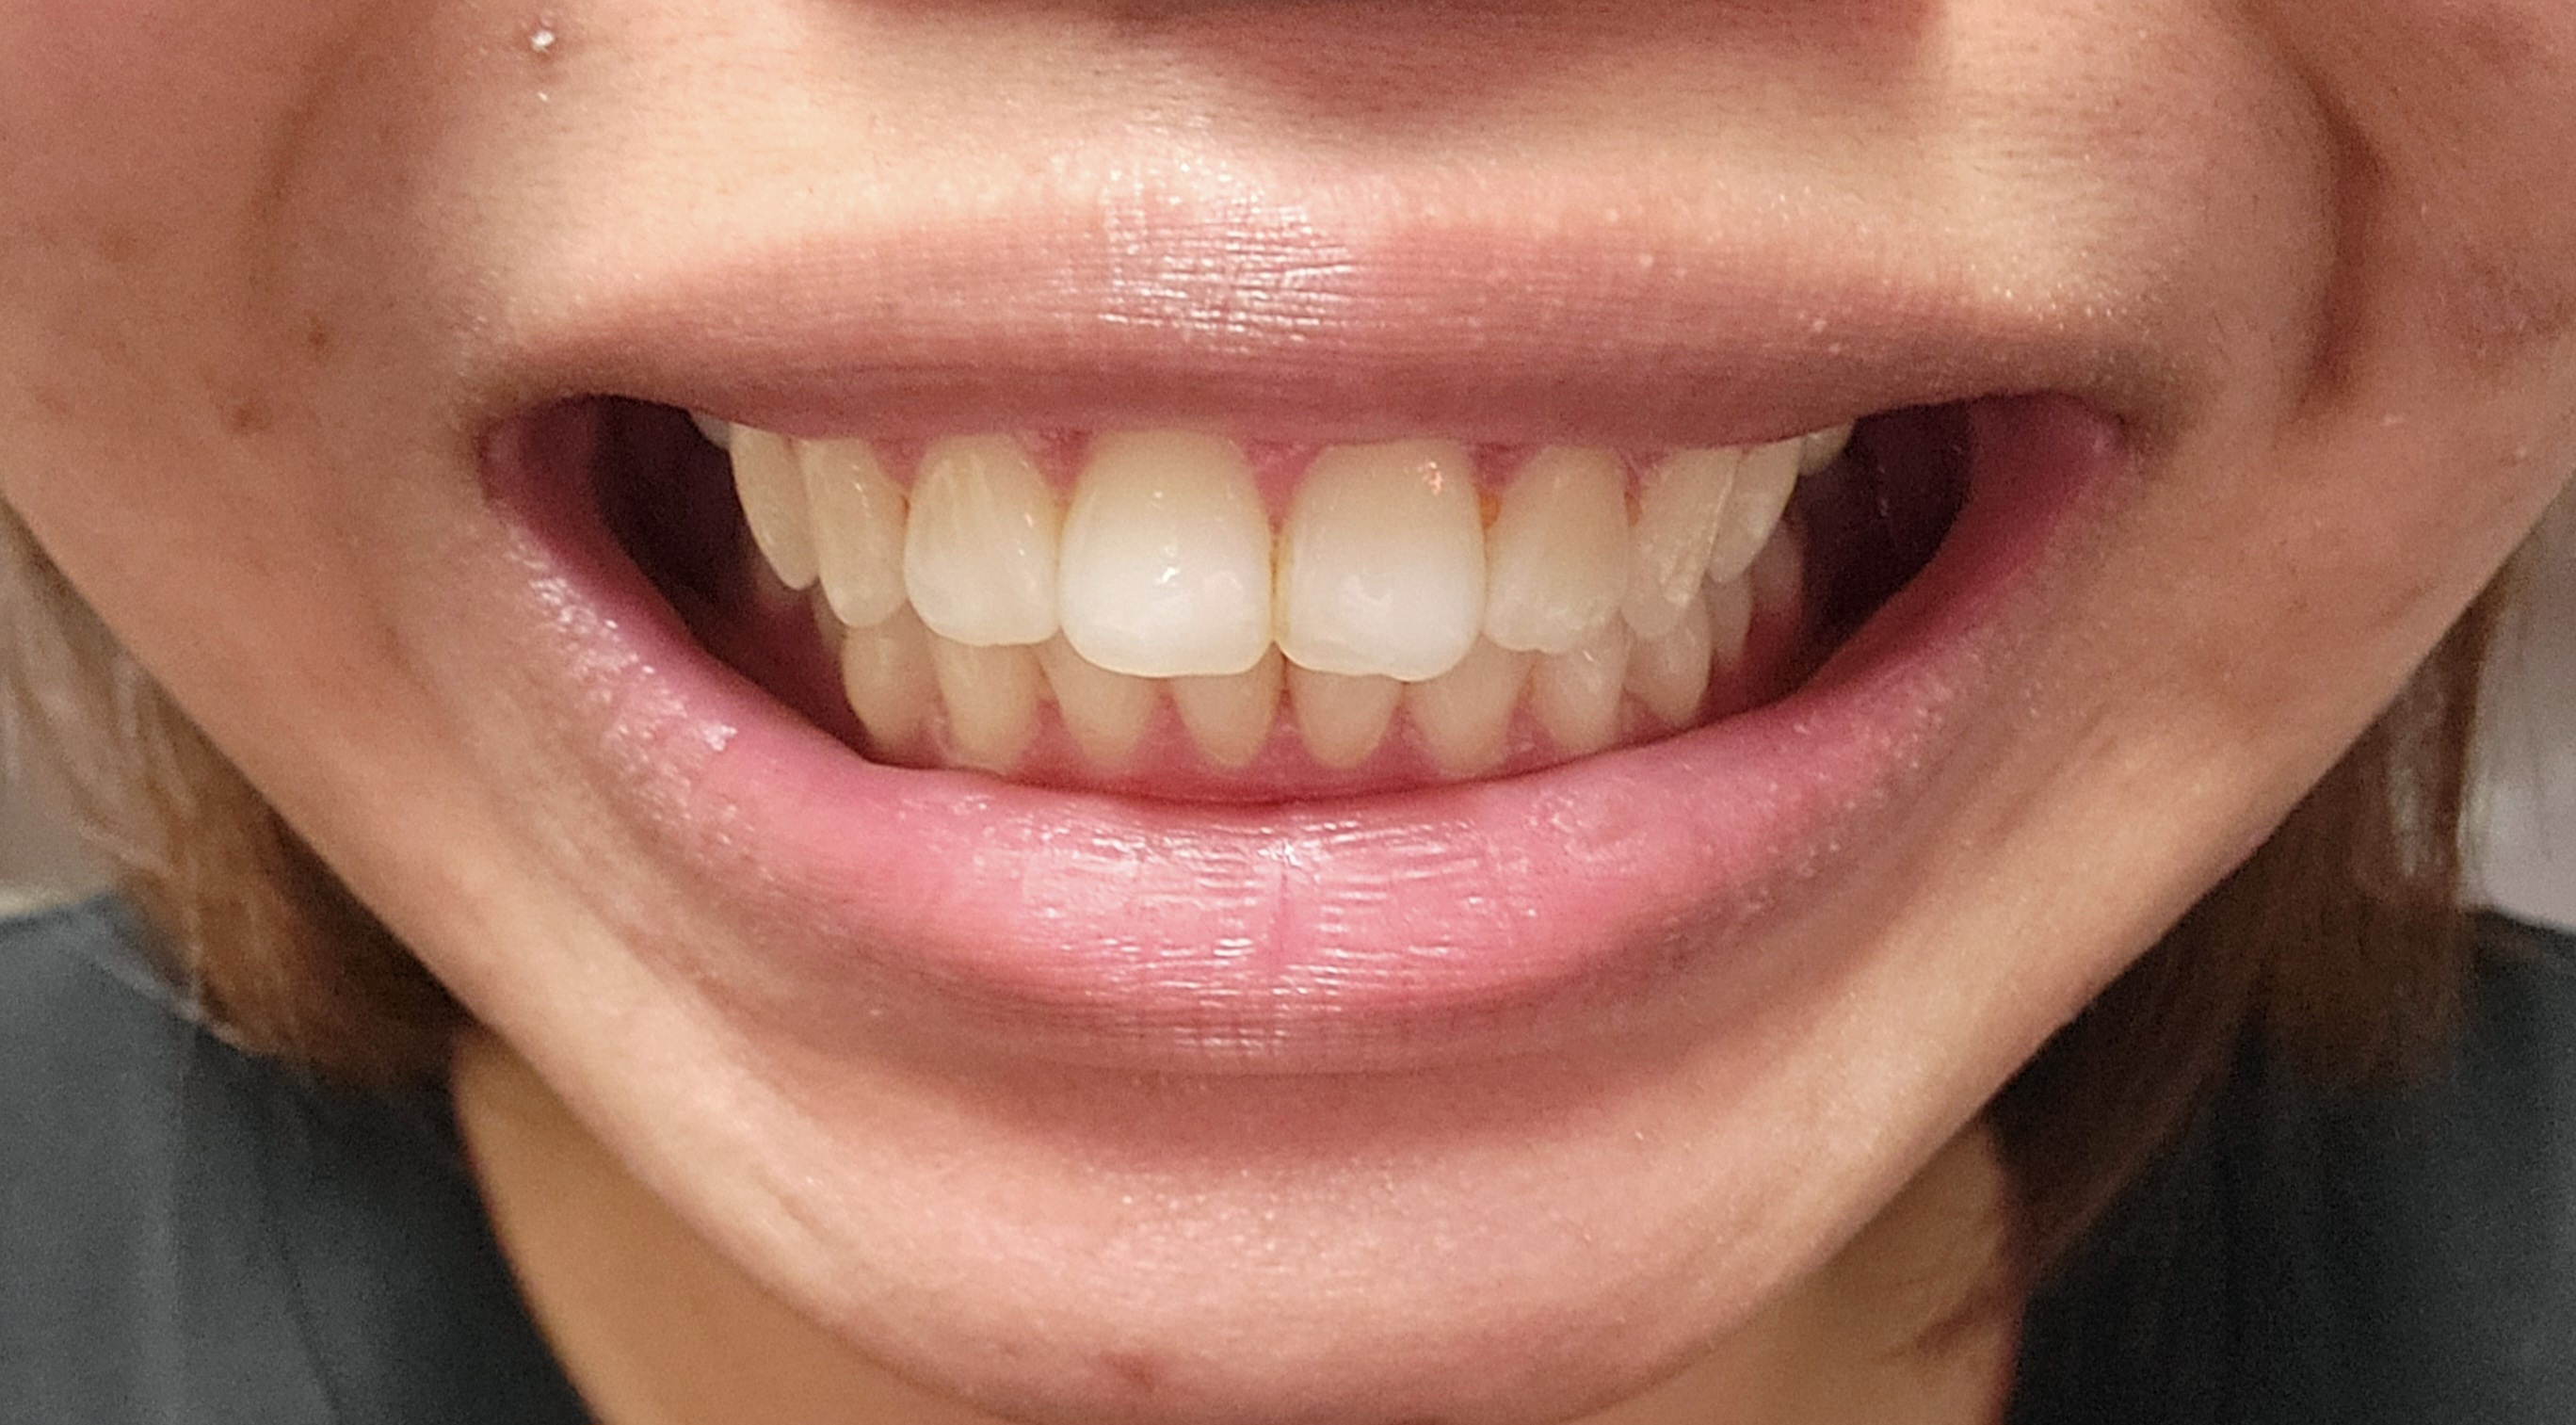teeth: (1068, 426, 1259, 683), (1285, 440, 1489, 679), (914, 419, 1056, 646), (1498, 435, 1633, 656), (1629, 442, 1734, 649), (715, 412, 821, 604), (805, 425, 896, 621), (919, 635, 1043, 760), (1177, 658, 1294, 767), (1438, 653, 1529, 776), (1061, 683, 1157, 793), (1743, 430, 1803, 565), (1647, 625, 1720, 732), (840, 632, 921, 727), (1547, 658, 1620, 756), (1305, 679, 1412, 739), (1810, 400, 1871, 458), (1761, 542, 1803, 621), (1724, 591, 1754, 670)
